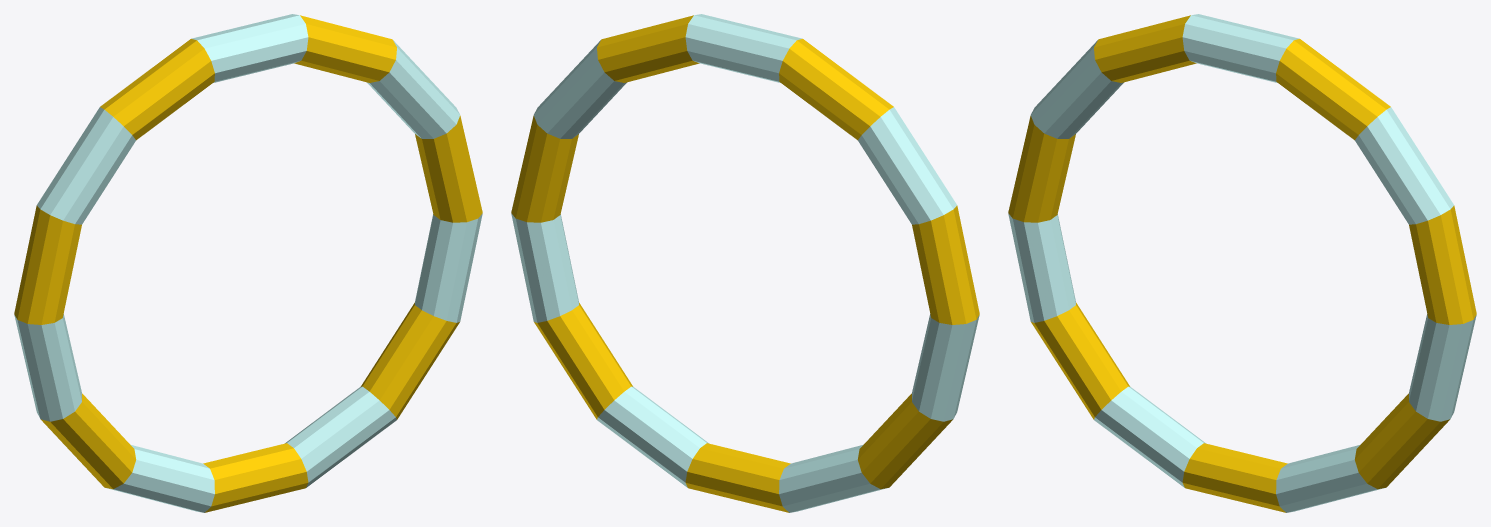
The model's file is Çember1.fbx.
The picture shows the model from 3 angles, left to right: view 1: azimuth 30°, elevation 25°; view 2: azimuth 150°, elevation 25°; view 3: azimuth 330°, elevation 25°; orthographic projection.
Parts seen in each view (by area): view 1: Torus.006; view 2: Torus.006; view 3: Torus.006.
Boxes of the visible parts, box(x1,y1,x2,y2) form: Torus.006: box(14, 14, 482, 512); Torus.006: box(511, 14, 979, 512); Torus.006: box(1008, 14, 1476, 512).
Size of the model in its own units: 448 by 437 by 41.57.
